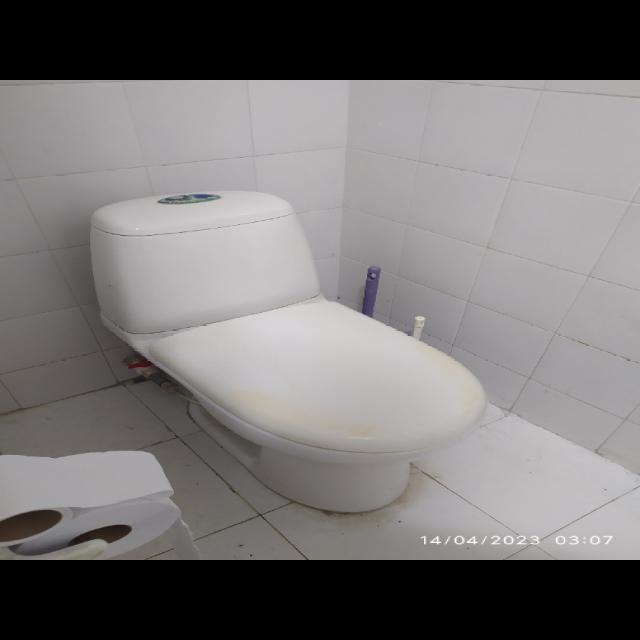toilet: (88, 189, 489, 513)
